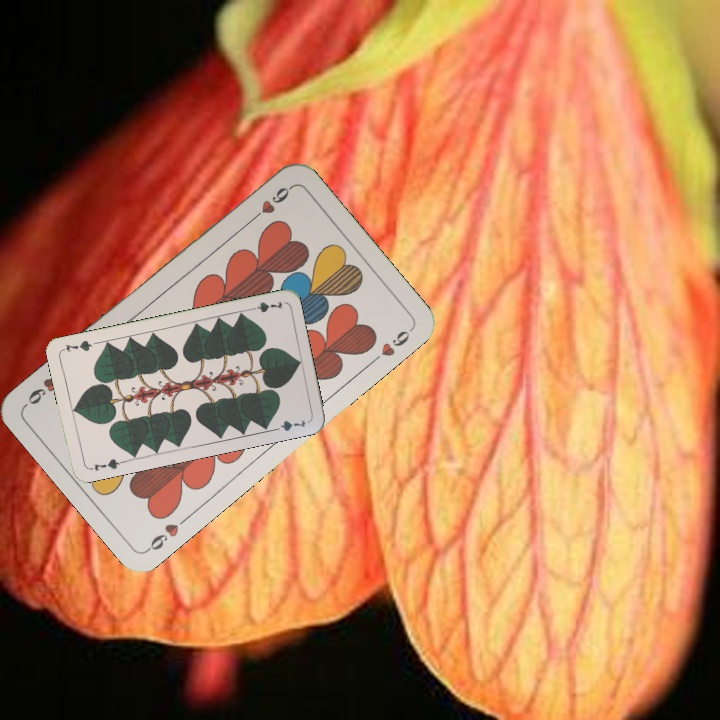G7: (244, 297, 285, 315), (85, 455, 126, 473)
H9: (246, 182, 295, 225), (142, 512, 192, 554)
